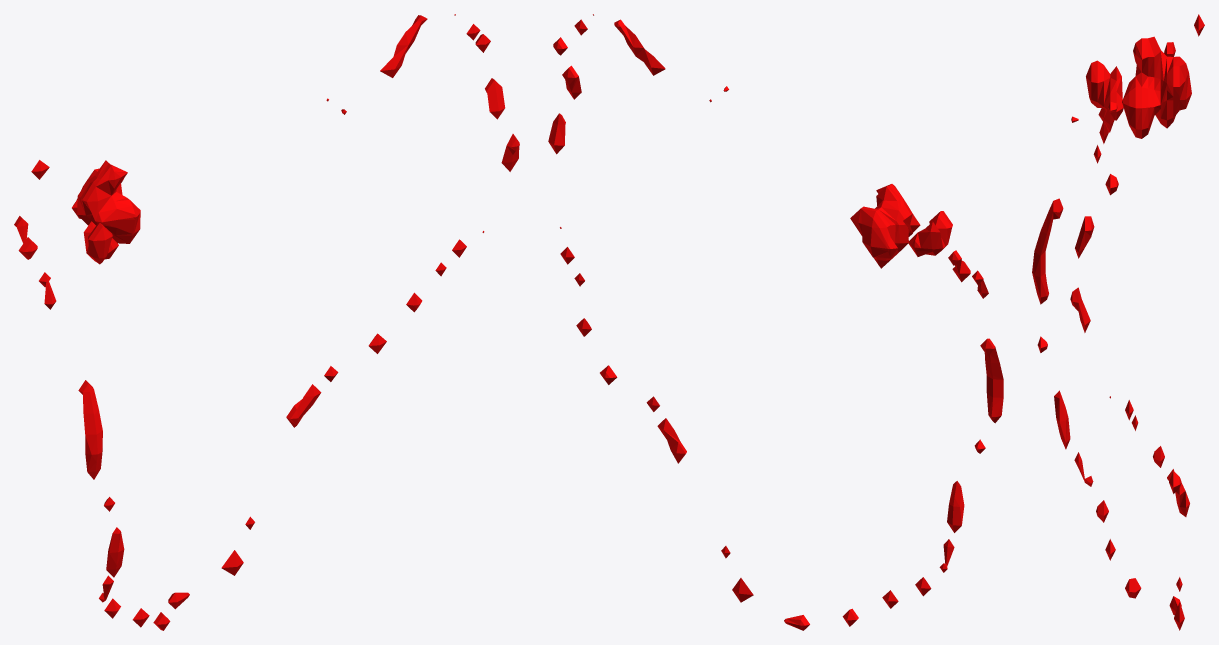
File: rne_coarse.dae
The picture shows the model from 3 angles, left to right: view 1: azimuth 30°, elevation 25°; view 2: azimuth 150°, elevation 25°; view 3: azimuth 270°, elevation 25°; orthographic projection. The views are drawn at different scales.
Parts seen in each view (by area): view 1: rne; view 2: rne; view 3: rne.
Part boxes in pixels (x1,y1,x2,y2): rne: (14, 14, 519, 630); rne: (548, 14, 1003, 630); rne: (1032, 14, 1204, 630).
Size of the model in its own units: 497 by 569 by 141.
